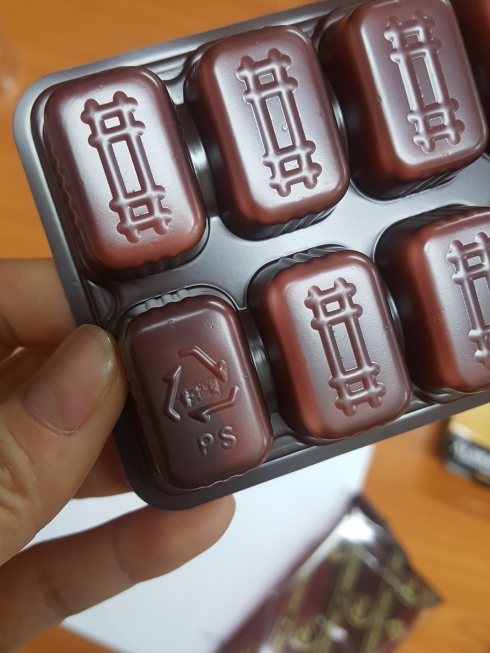recycle: (159, 335, 251, 460)
